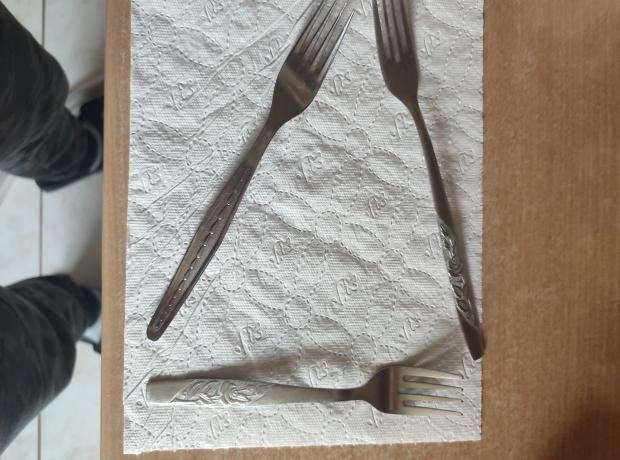metal: (141, 0, 358, 342), (372, 0, 495, 362), (146, 364, 465, 420)
